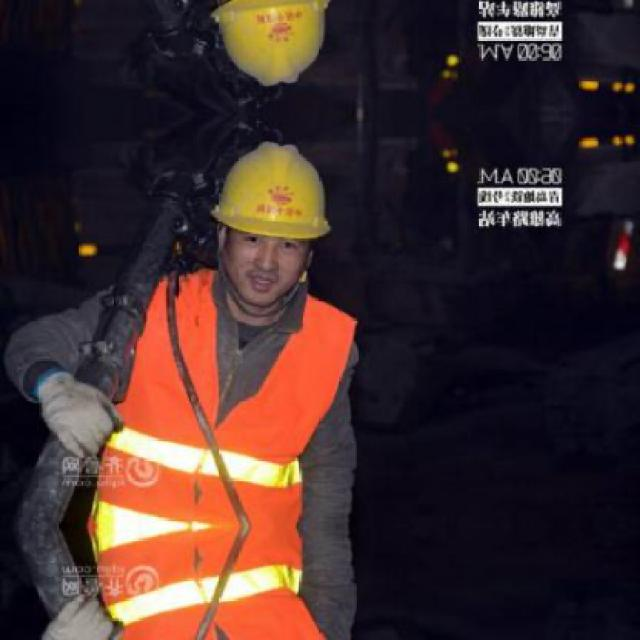helmet: (208, 130, 338, 312), (208, 0, 340, 97)
